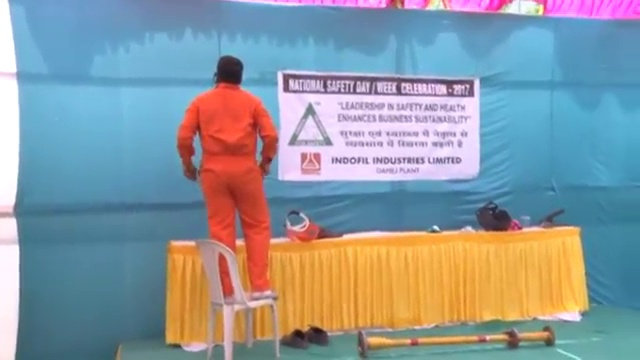helmet_off: (212, 54, 247, 92)
person: (174, 56, 286, 298)
